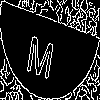M: (25, 25, 57, 81)
